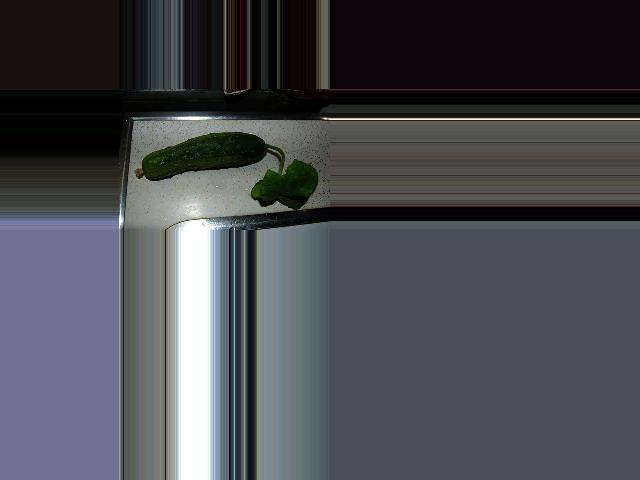cucumber: (134, 132, 268, 180)
